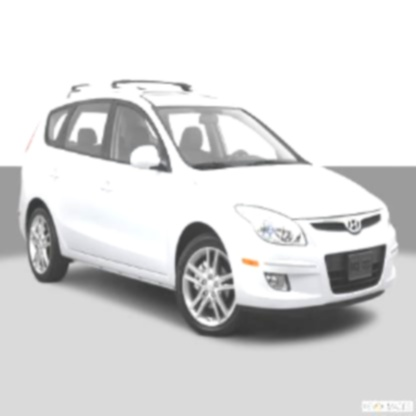Vehicle: (16, 80, 401, 339)
